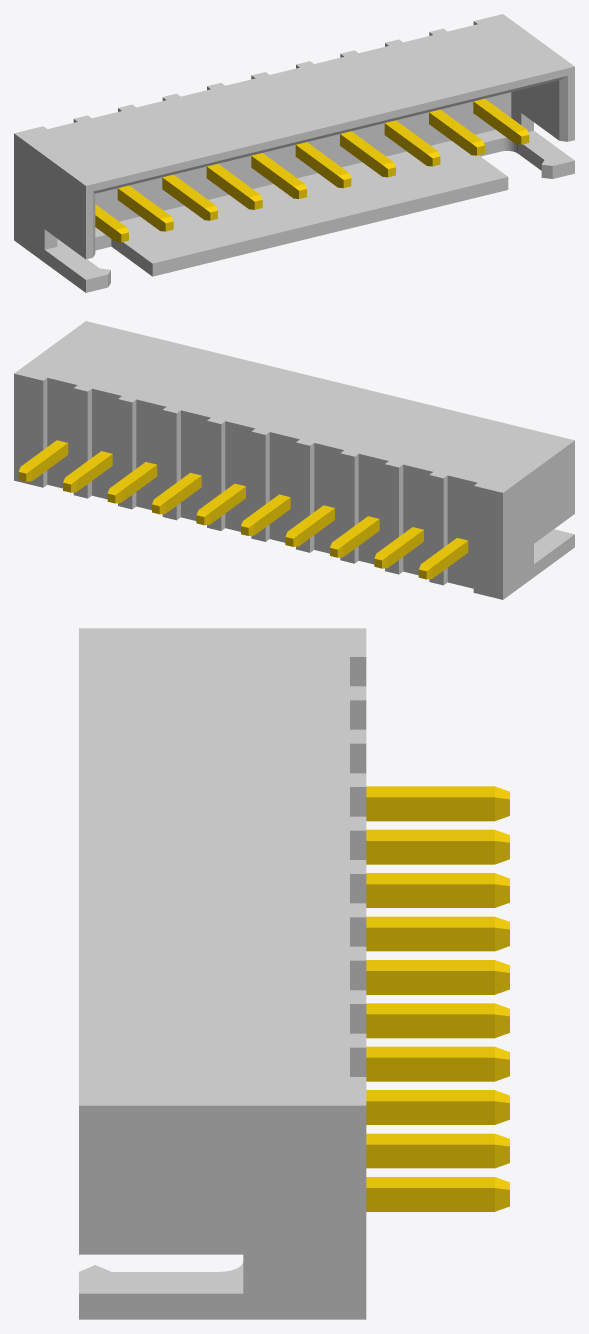
File: DS1069-10 CWF-10.obj
3 renders of one model, top to bottom at view 1: azimuth 30°, elevation 25°; view 2: azimuth 150°, elevation 25°; view 3: azimuth 270°, elevation 25°, orthographic. The views are drawn at different scales.
Visible parts, largest first — view 1: DS1069-10_CWF-10; view 2: DS1069-10_CWF-10; view 3: DS1069-10_CWF-10.
Boxes of the visible parts, box(x1,y1,x2,y2) form: DS1069-10_CWF-10: box(14, 14, 574, 292); DS1069-10_CWF-10: box(14, 321, 574, 599); DS1069-10_CWF-10: box(79, 628, 509, 1319).
Size of the model in its own units: 0.0205 by 0.00429 by 0.00783.
